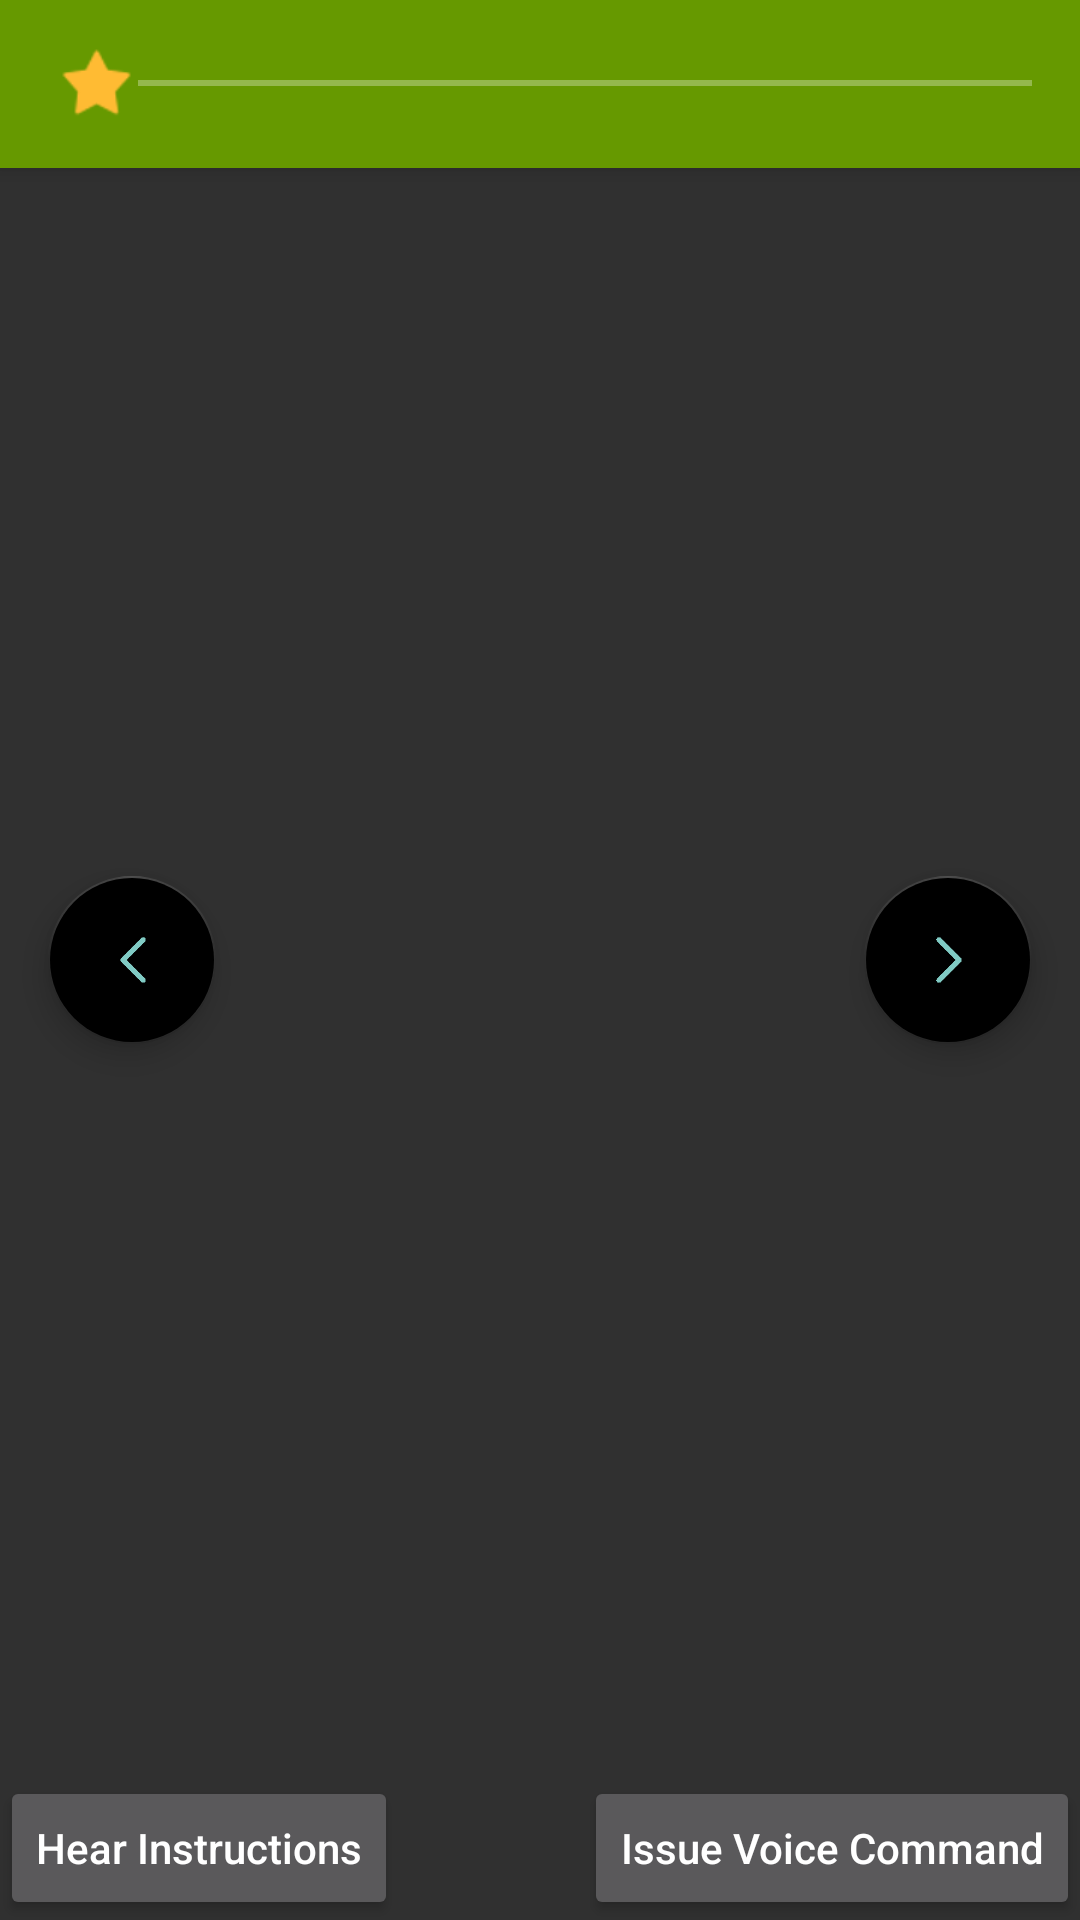

Where icons sit on this 1080x1920 app screen, as [x1, y1, x2, y2]:
next: [866, 876, 1030, 1042]
prev: [50, 876, 214, 1042]
